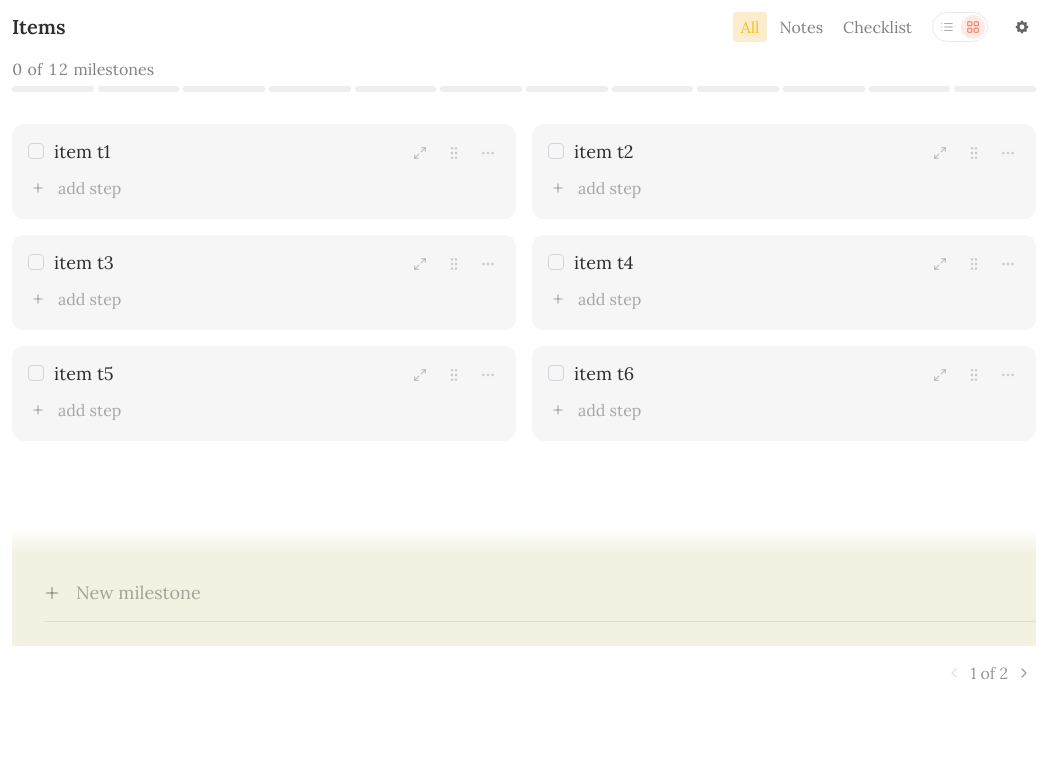
Test: Todo new-milestone composer › should follow a new milestone to the last page, traced and named in the input
Expected: the text "item t1" is shown, [54,140,110,163]
Expected: the text with test id "page-counter" reads "1 of 2", [970,662,1008,684]
Click the button "New milestone": (138, 592) [44,565,1036,622]
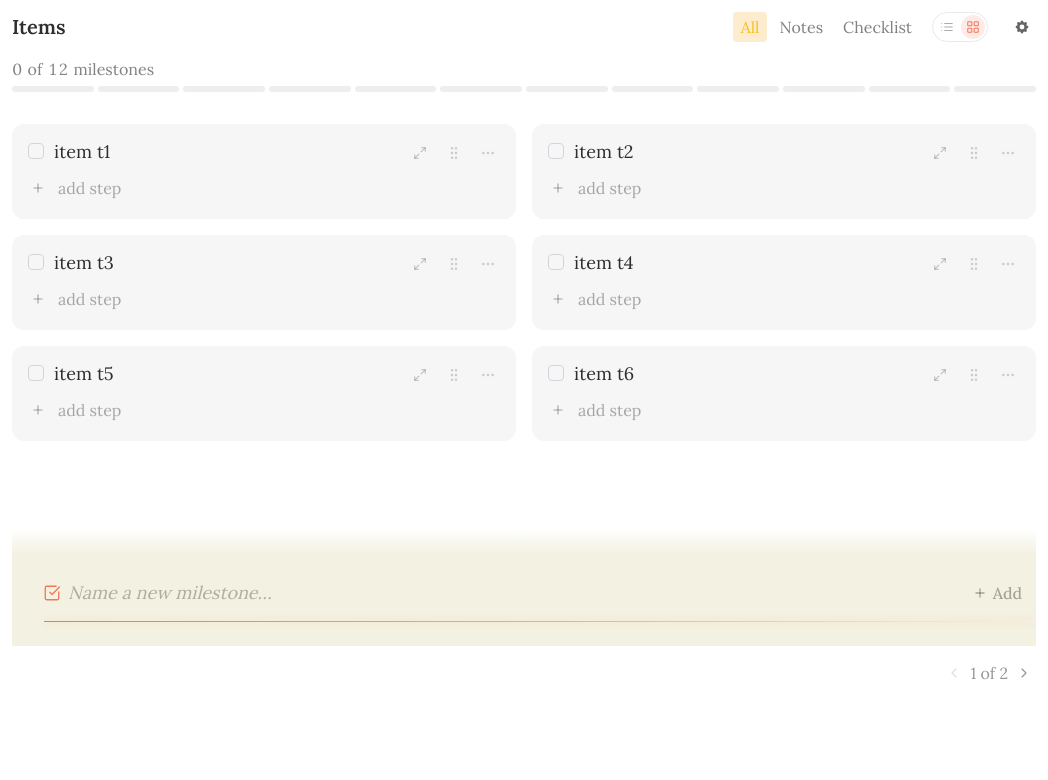
In the field labelled "Name a new milestone": (507, 593) [68,577,947,609], type "Launch"
Then press Enter
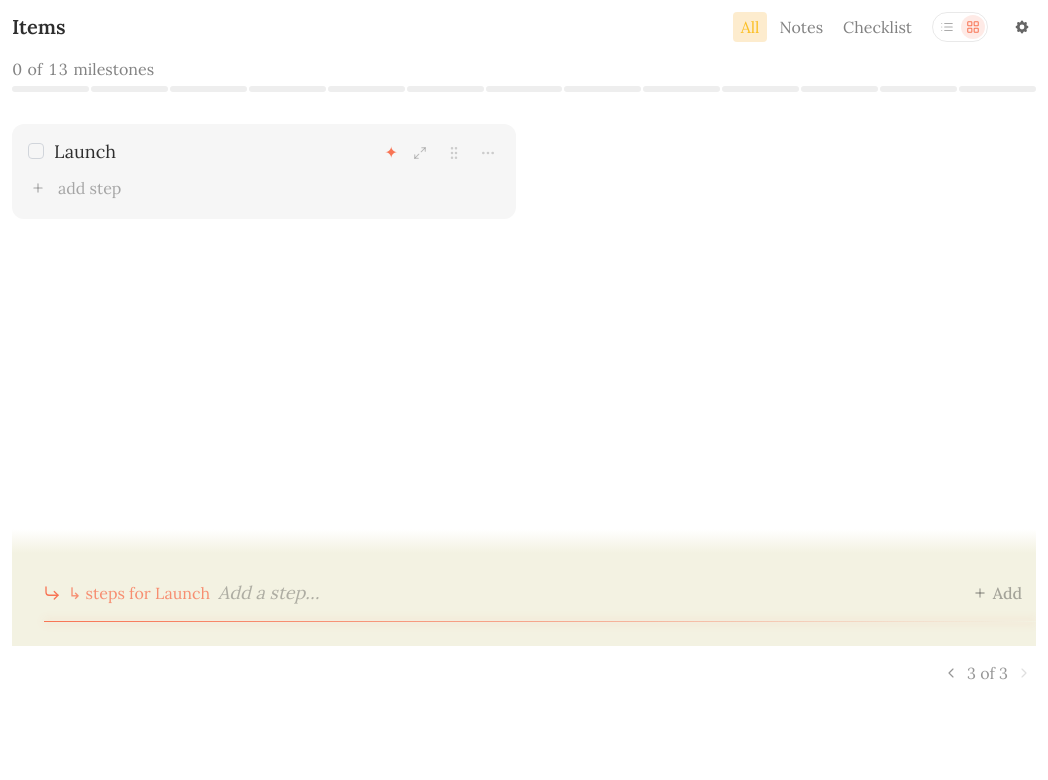
Now the text with test id "page-counter" reads "3 of 3", box [967,662,1008,684]
Now the element showing "↳ steps for Launch Add" is shown, box [43,577,1036,609]
